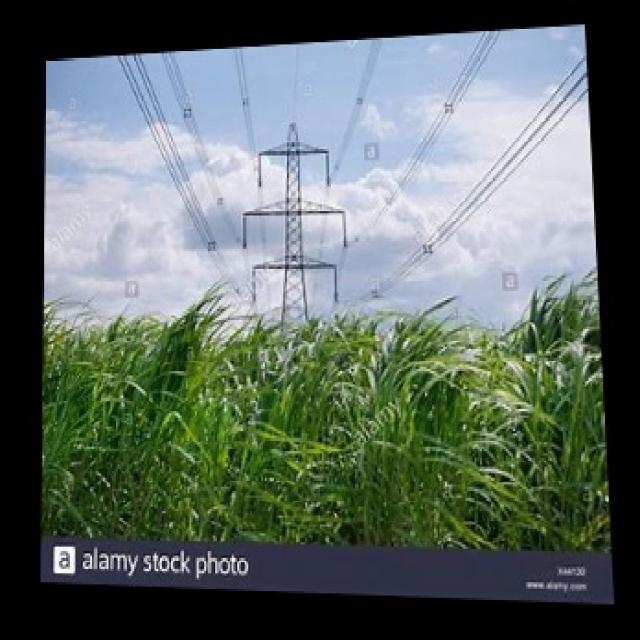utility poles: (246, 108, 356, 542)
